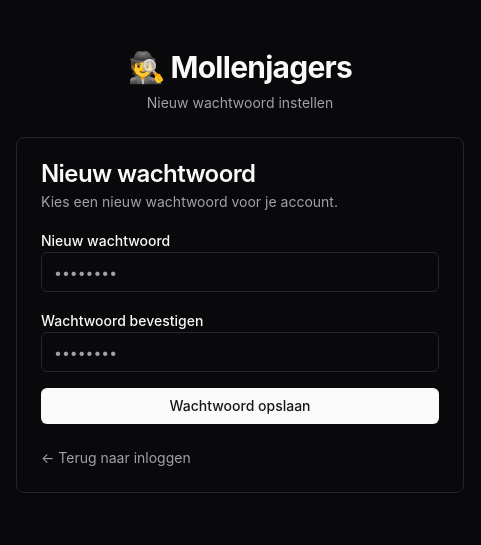
Test: ResetPasswordPage › shows error when token is invalid or expired
Type "newpass" into the password field labelled "Nieuw wachtwoord" at (240, 272), box [41,252,439,292]
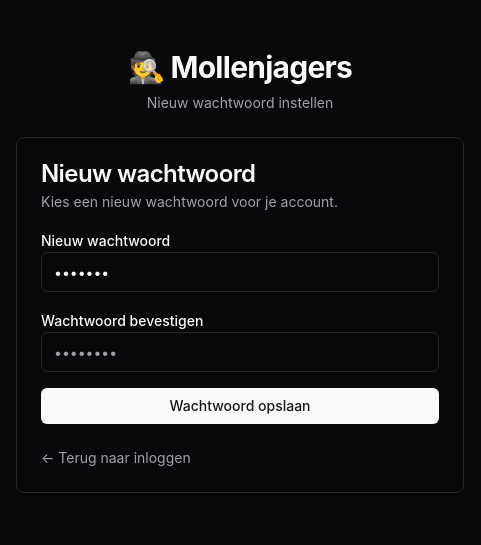
Type "newpass" into the password field labelled "Wachtwoord bevestigen" at (240, 352), box [41,332,439,372]
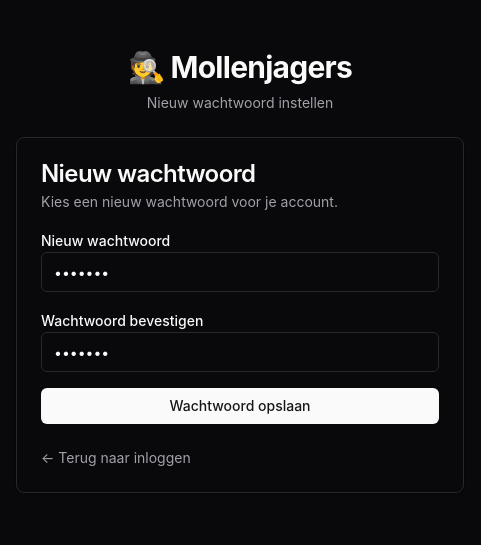
Click the button "Wachtwoord opslaan" at (240, 406), box [41,388,439,424]
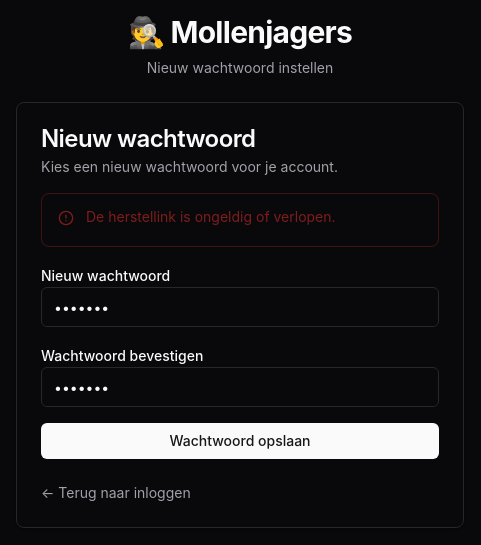
Expected: the text "De herstellink is ongeldig of verlopen." is shown, [86,208,336,225]
